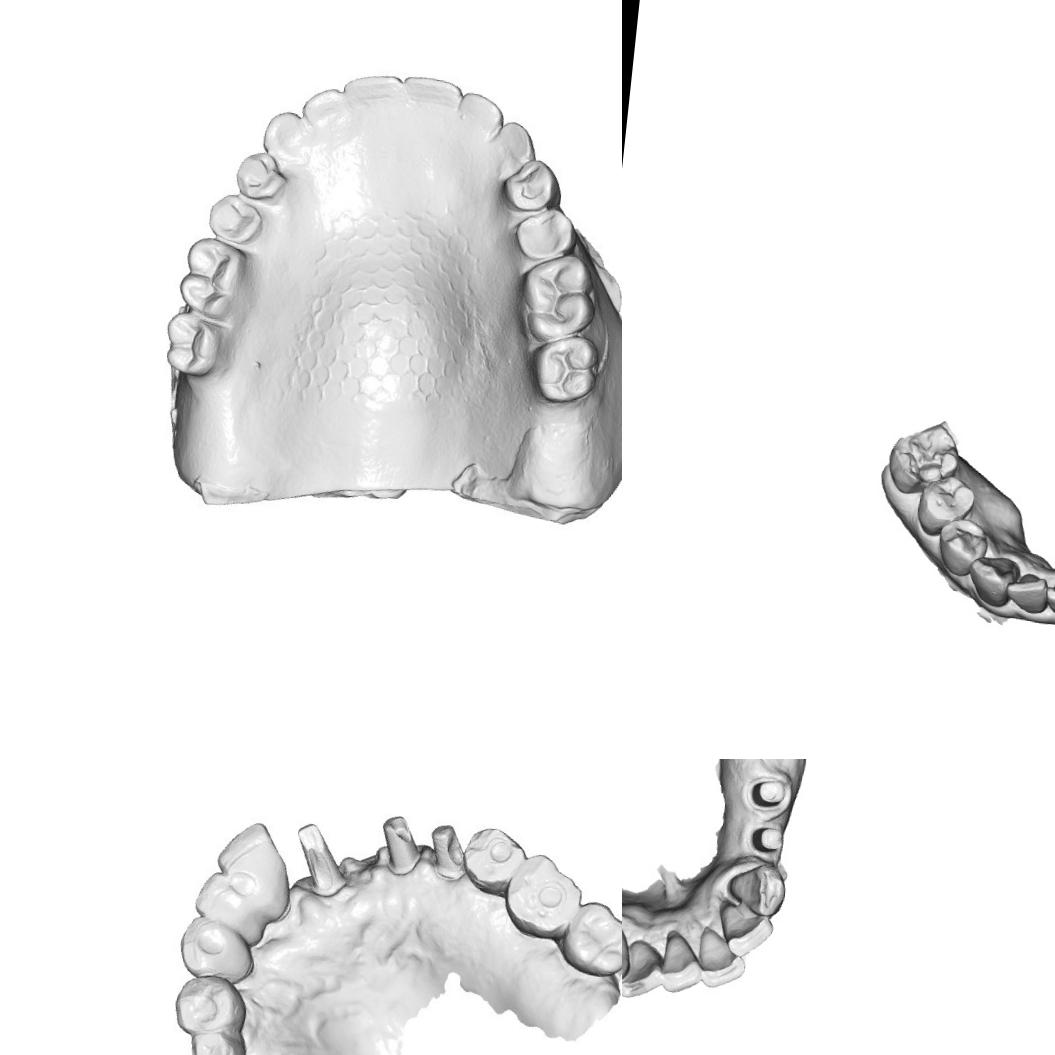abutment: (287, 812, 362, 903), (376, 810, 428, 878), (428, 818, 469, 891), (743, 769, 793, 816), (747, 821, 790, 862)
canine: (176, 912, 261, 983), (722, 858, 791, 920), (963, 552, 1022, 610), (264, 111, 308, 162), (490, 119, 534, 168)
incisor: (212, 818, 289, 906), (191, 869, 271, 944), (692, 922, 752, 992), (716, 896, 778, 962), (341, 69, 404, 124), (658, 928, 707, 997), (400, 74, 460, 130), (622, 936, 669, 1005), (448, 92, 506, 144), (303, 90, 355, 145), (1004, 570, 1050, 616), (1043, 570, 1055, 618)
molar: (505, 852, 583, 941), (886, 418, 962, 500), (522, 256, 594, 334), (177, 239, 250, 312), (558, 897, 622, 976), (534, 334, 600, 400), (160, 312, 229, 374)
premolar: (455, 822, 532, 896), (170, 974, 254, 1037), (914, 471, 979, 540), (935, 515, 991, 580), (513, 208, 574, 262), (208, 196, 258, 243), (508, 162, 558, 208), (236, 154, 282, 202), (186, 1023, 254, 1055)
